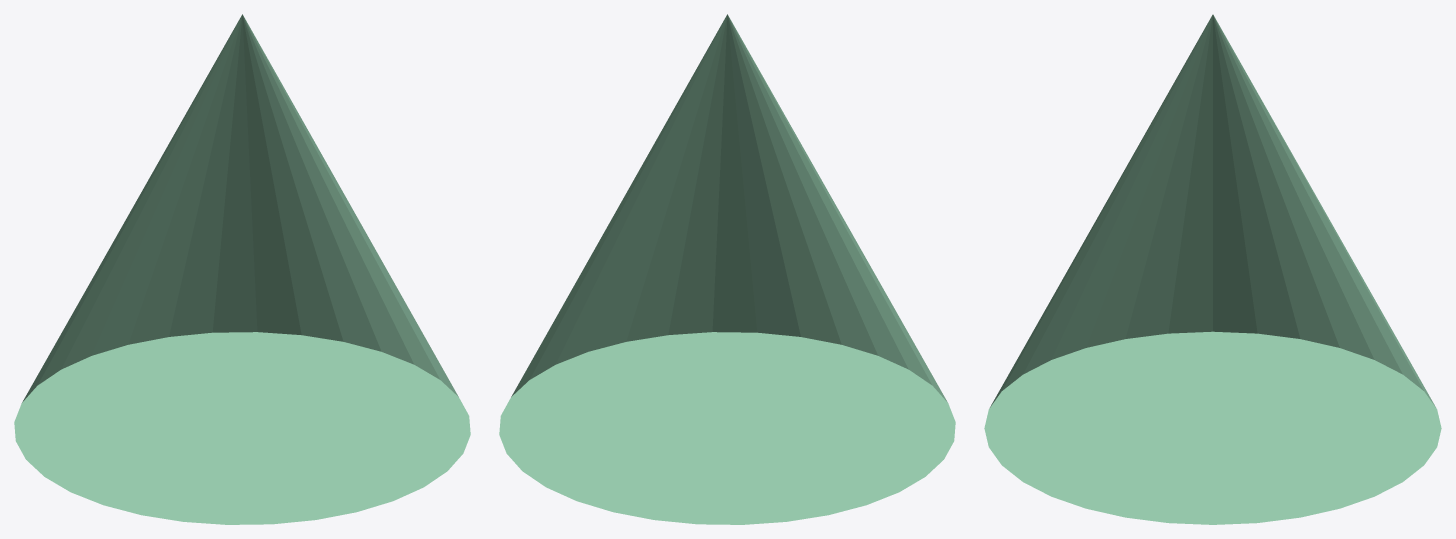
3 views of the same model, side by side, from view 1: azimuth 30°, elevation 25°; view 2: azimuth 150°, elevation 25°; view 3: azimuth 270°, elevation 25° (orthographic).
Bounding box in the file's own units: 1 × 1 × 1.
